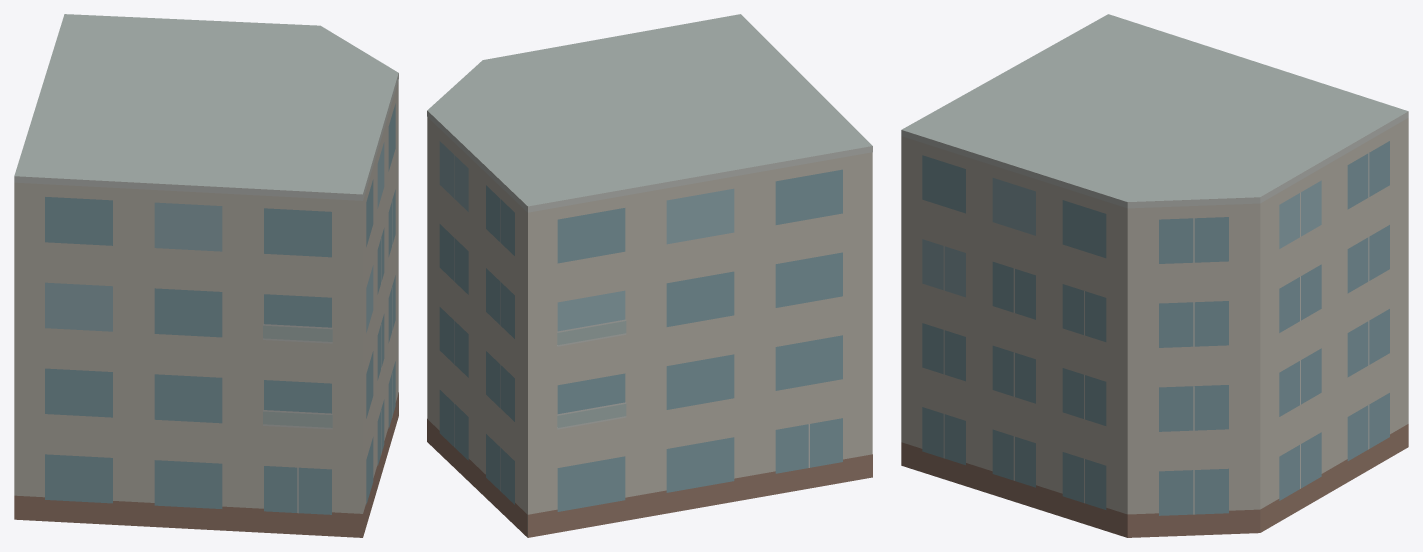
The model's file is survey-upis-32632071.glb.
The picture shows the model from 3 angles, left to right: view 1: azimuth 30°, elevation 25°; view 2: azimuth 150°, elevation 25°; view 3: azimuth 270°, elevation 25°; orthographic projection. The views are drawn at different scales.
Parts seen in each view (by area): view 1: survey-upis-32632071.tmp; view 2: survey-upis-32632071.tmp; view 3: survey-upis-32632071.tmp.
Part boxes in pixels (x1,y1,x2,y2): survey-upis-32632071.tmp: (14,14,398,537); survey-upis-32632071.tmp: (427,14,872,537); survey-upis-32632071.tmp: (901,14,1408,537).
Size of the model in its own units: 15.63 by 13 by 17.81.
